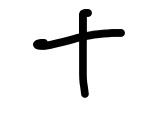plus: (33, 9, 125, 98)
